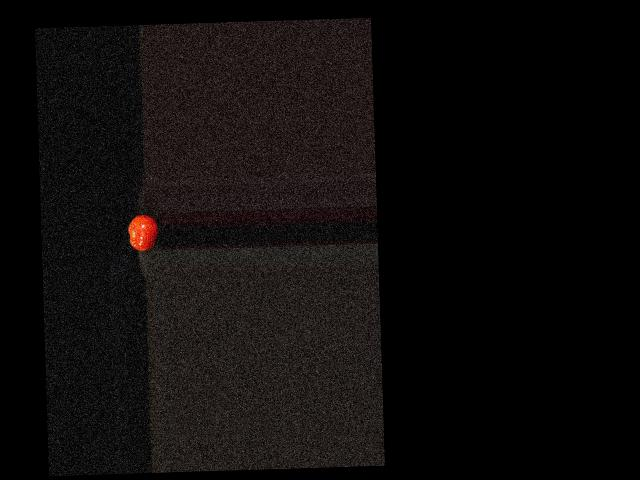tomato: (128, 213, 159, 251)
